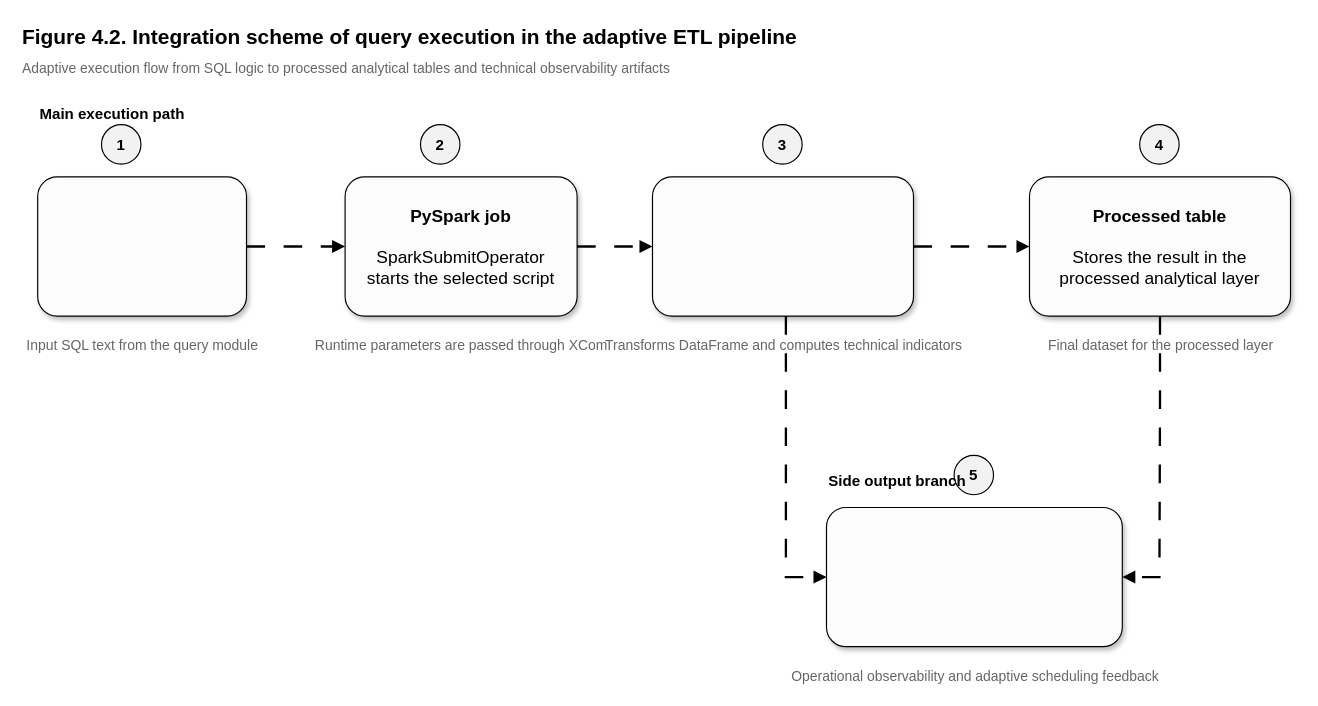
Image size: 1318x706. Some labels were removed from this diagram. Each missing label, with the centre of its shape:
"Metrics / logs Execution metrics, predictions and run logs" goes at [975,578].
"SparkSession Reads source tables from Athena / S3 and performs transformations" goes at [783,247].
"SQL query Analytical logic for task q01-q20" goes at [142,247].
